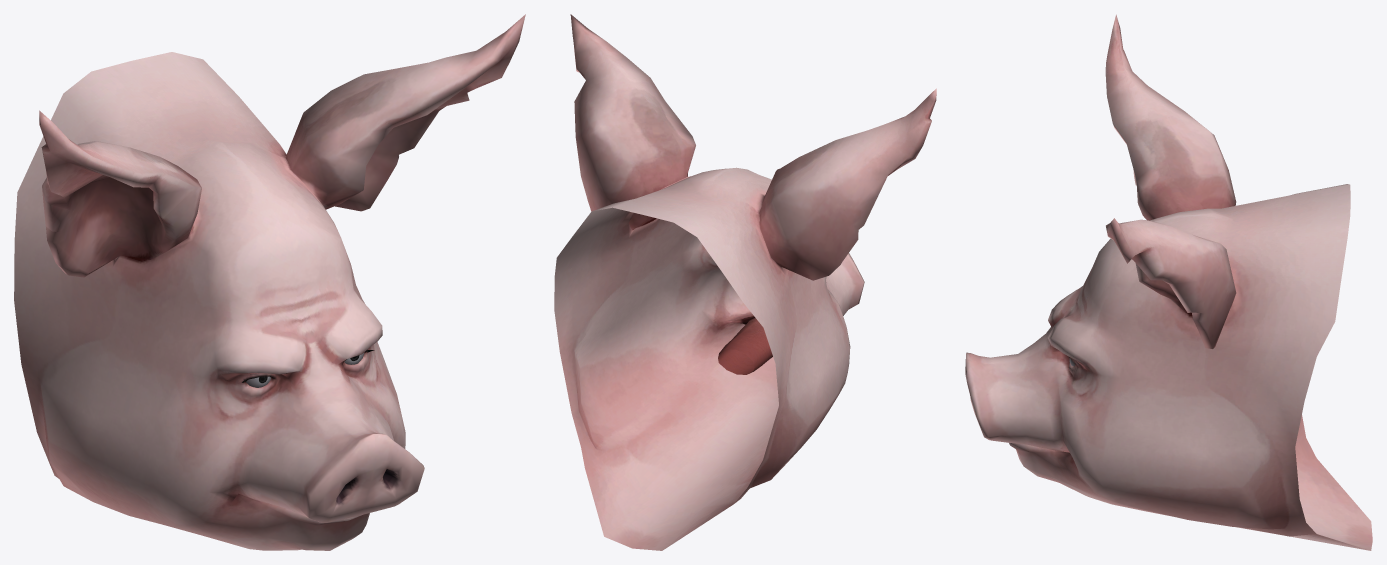
The model's file is colin.glb.
The picture shows the model from 3 angles, left to right: view 1: azimuth 30°, elevation 25°; view 2: azimuth 150°, elevation 25°; view 3: azimuth 270°, elevation 25°; orthographic projection. The views are drawn at different scales.
Parts seen in each view (by area): view 1: Object_8, Object_10; view 2: Object_8, Object_10; view 3: Object_8, Object_10.
Boxes of the visible parts, box(x1,y1,x2,y2) form: Object_8: box(14, 52, 424, 550); Object_10: box(39, 14, 525, 277); Object_8: box(554, 145, 864, 550); Object_10: box(570, 14, 936, 374); Object_8: box(965, 184, 1372, 550); Object_10: box(1105, 14, 1236, 348).
Bounding box in the file's own units: 0.6155 × 0.6653 × 0.5665.
Materials: 7 (7 with a texture image).
